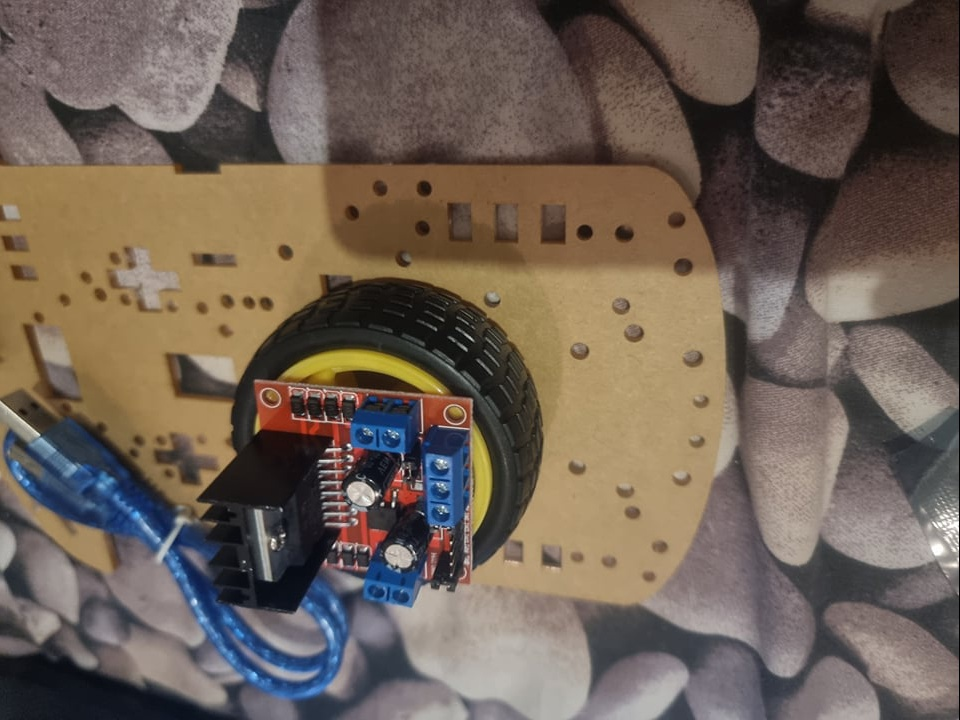MOTOR: (185, 378, 475, 612)
